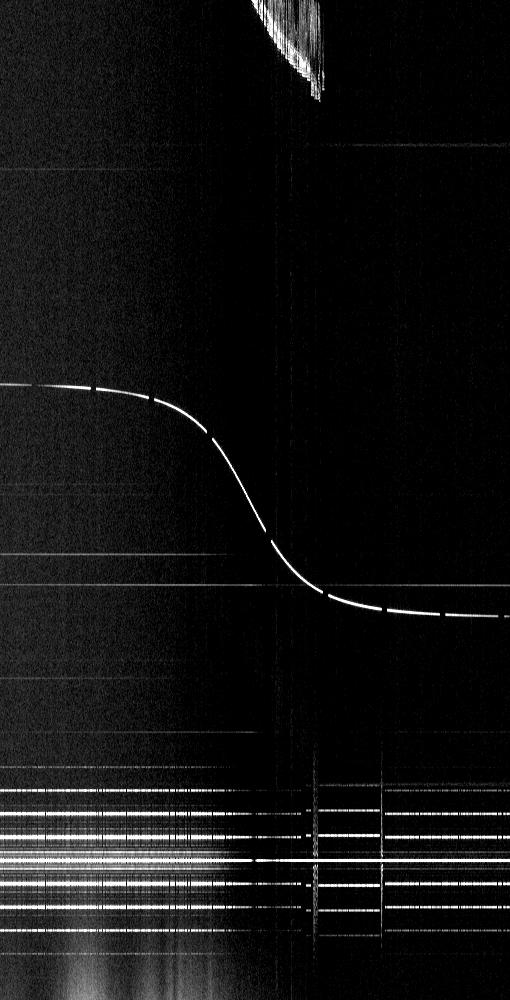signal: (0, 0, 509, 999)
